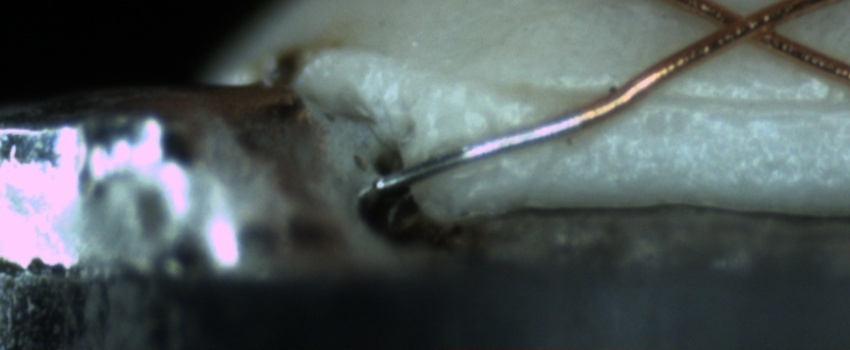CL: (699, 1, 797, 54)
DL: (501, 75, 849, 128)
TS: (375, 112, 583, 189)
